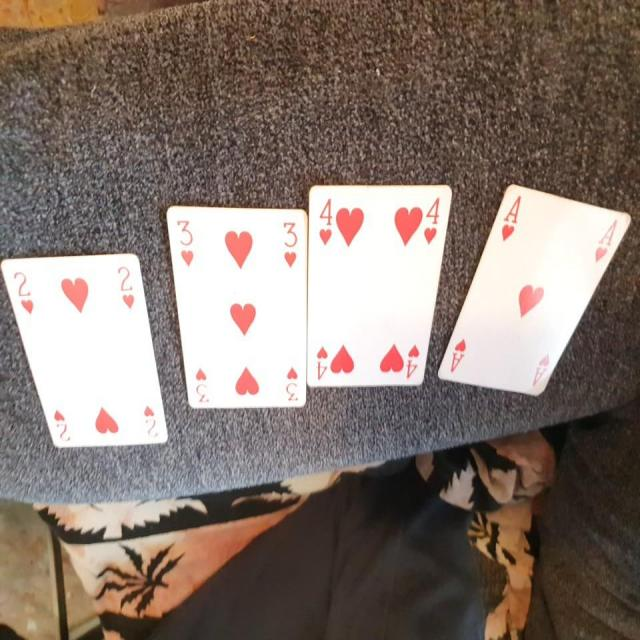2 Hearts: (0, 242, 176, 457)
3 Hearts: (162, 202, 306, 410)
4 Hearts: (304, 174, 453, 401)
A Hearts: (437, 176, 632, 407)
